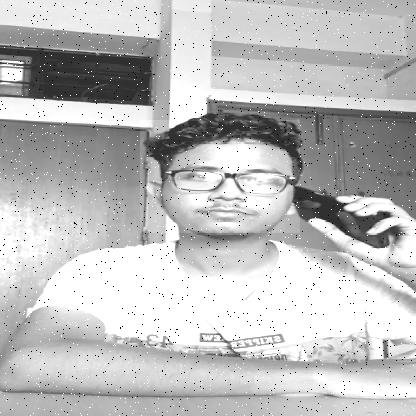Normal: (140, 120, 300, 233)
